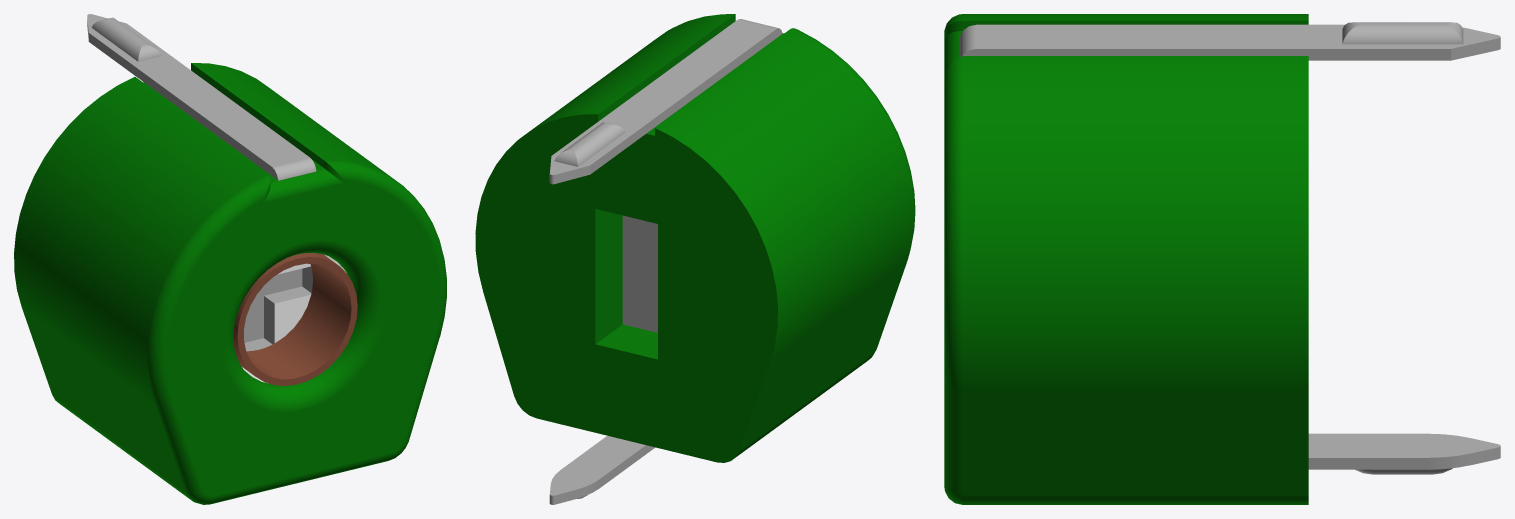
The model's file is Trimmer Cap - Green - 30pf.obj.
The picture shows the model from 3 angles, left to right: view 1: azimuth 30°, elevation 25°; view 2: azimuth 150°, elevation 25°; view 3: azimuth 270°, elevation 25°; orthographic projection. The views are drawn at different scales.
Visible parts, largest first — view 1: Solid1; view 2: Solid1; view 3: Solid1.
Part boxes in pixels (x1,y1,x2,y2): Solid1: (14, 14, 446, 504); Solid1: (475, 14, 915, 504); Solid1: (944, 14, 1500, 504).
Size of the model in its own units: 6.09 by 6.76 by 7.61.
